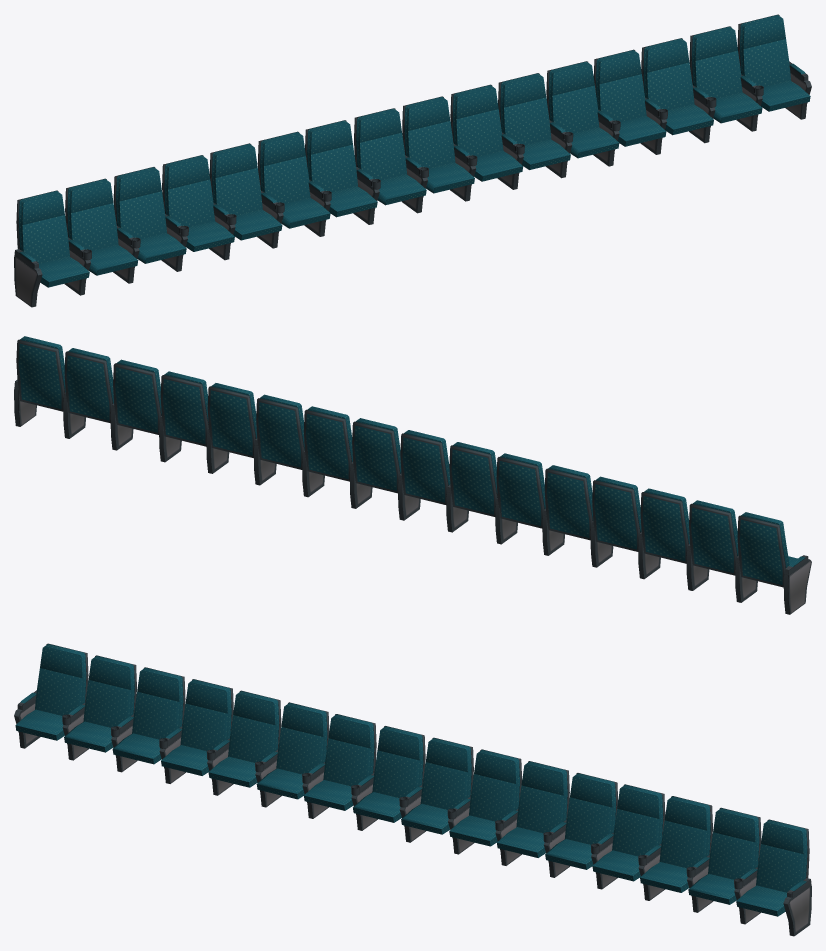
Rendered from CinemaChair03a.FBX.
3 renders of one model, top to bottom at view 1: azimuth 30°, elevation 25°; view 2: azimuth 150°, elevation 25°; view 3: azimuth 330°, elevation 25°, orthographic.
Parts seen in each view (by area): view 1: CinemaChair03a; view 2: CinemaChair03a; view 3: CinemaChair03a.
Part boxes in pixels (x1=…): CinemaChair03a: x1=14, y1=14, x2=811, y2=307; CinemaChair03a: x1=14, y1=336, x2=811, y2=614; CinemaChair03a: x1=14, y1=643, x2=811, y2=936.
Size of the model in its own units: 1323 by 150 by 95.9.
